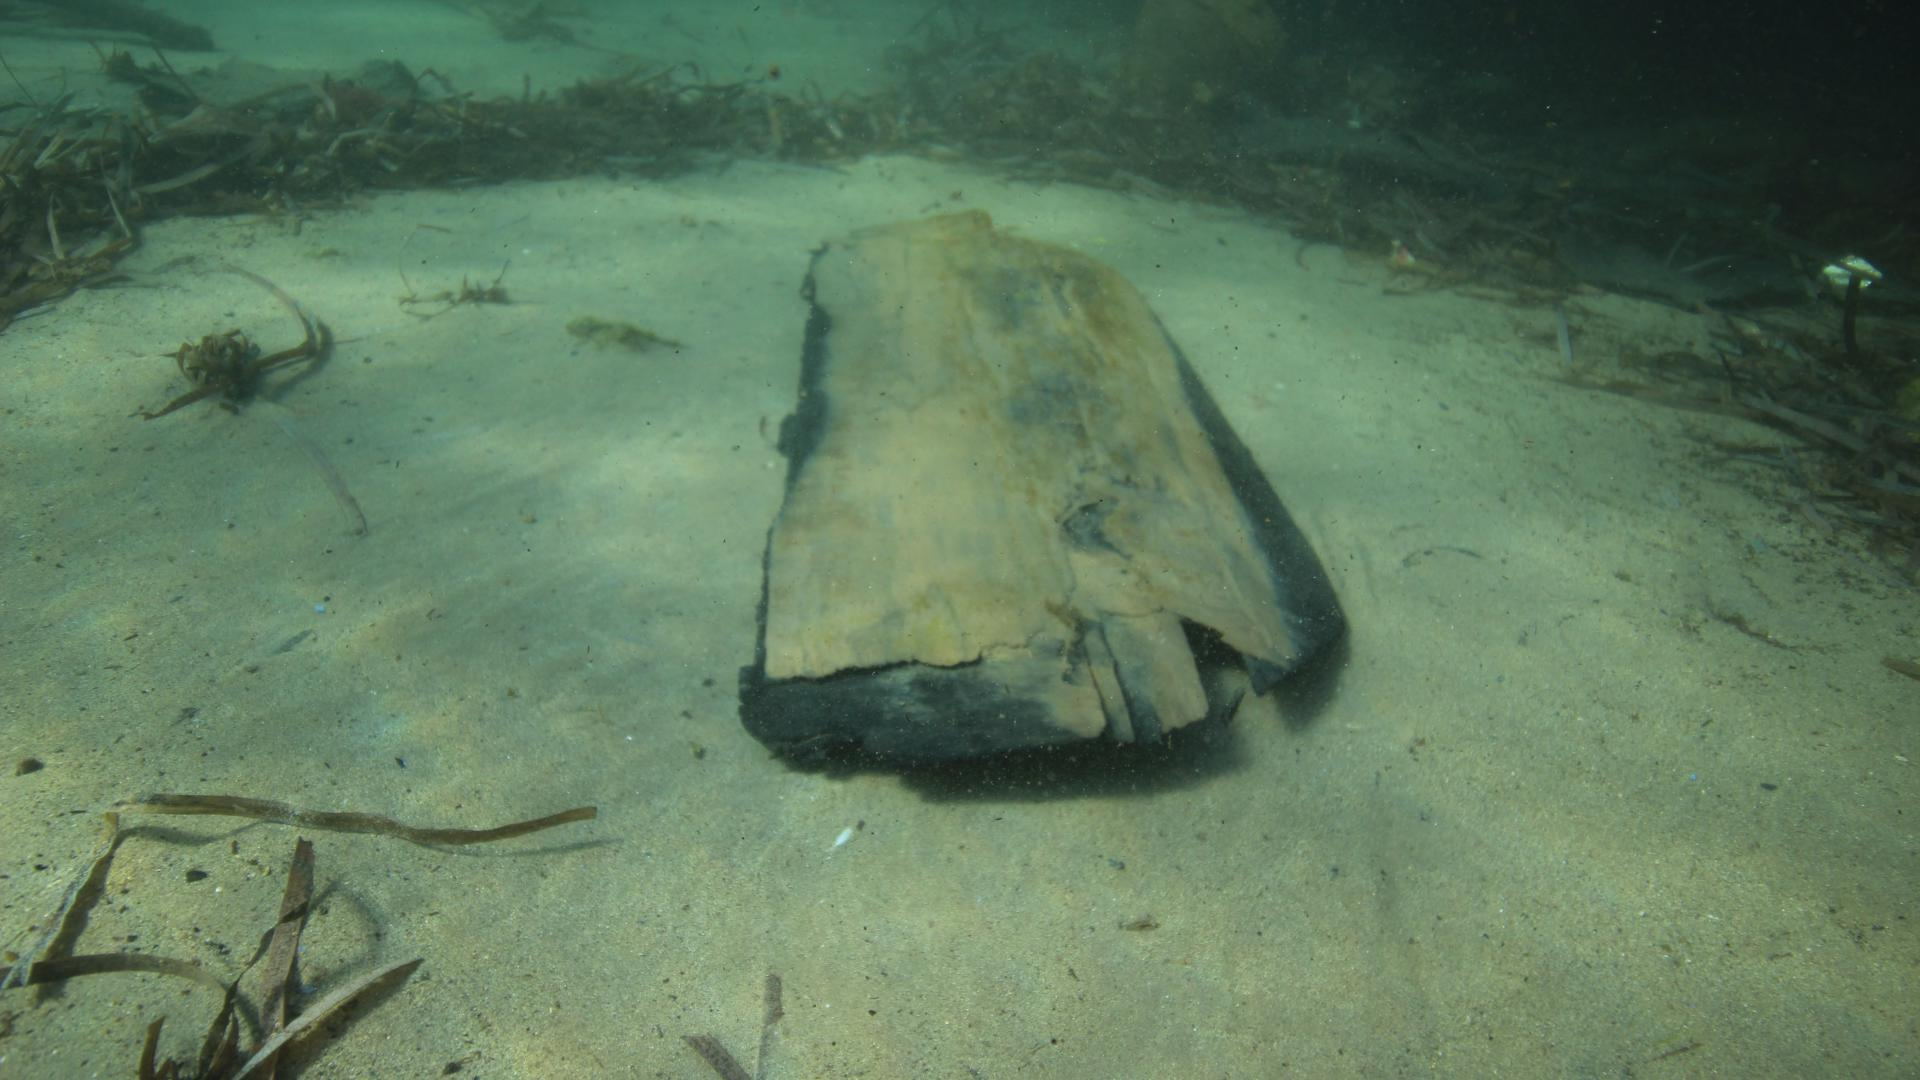wood: (735, 207, 1348, 769)
